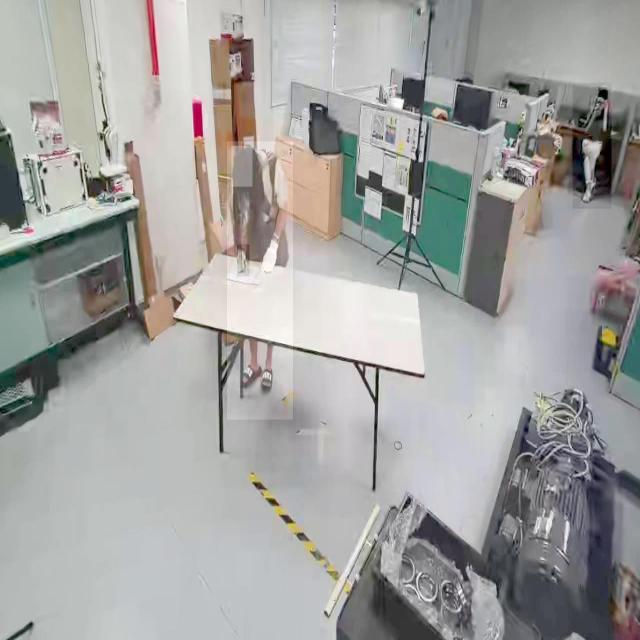hand_glove: (261, 239, 283, 275), (237, 244, 249, 276)
head_nohelmet: (231, 146, 253, 188), (598, 87, 608, 98)
person: (227, 142, 293, 420), (572, 82, 612, 210)
